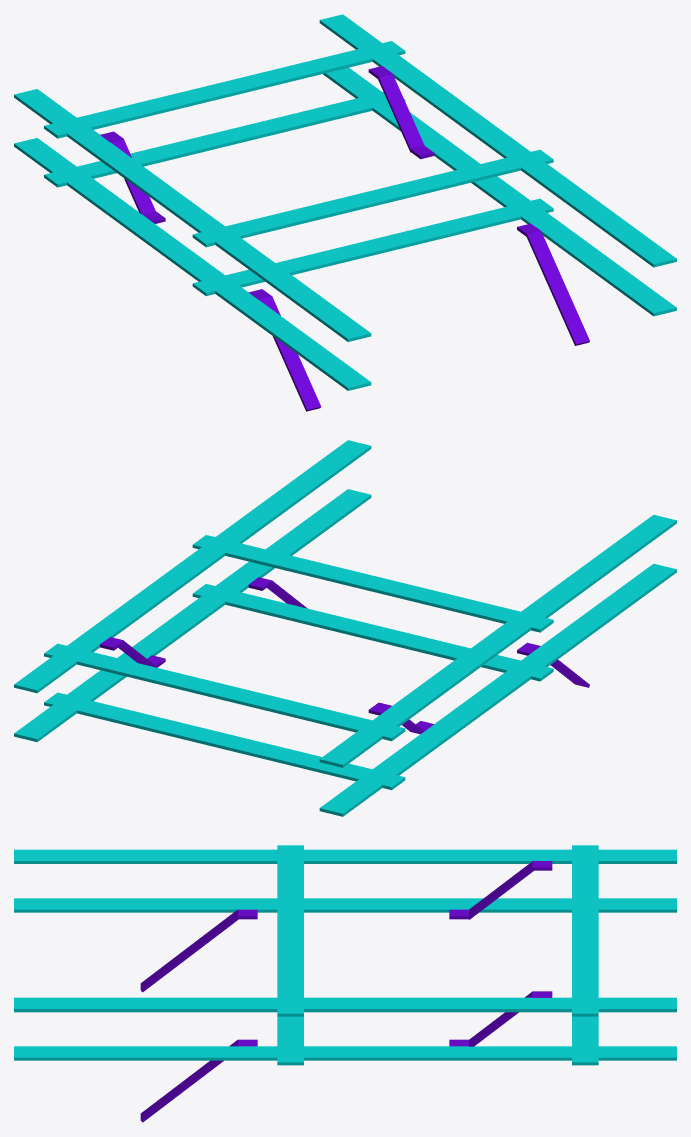
Rendered from Stairs.fbx.
The picture shows the model from 3 angles, top to bottom: view 1: azimuth 30°, elevation 25°; view 2: azimuth 150°, elevation 25°; view 3: azimuth 270°, elevation 25°; orthographic projection.
Parts seen in each view (by area): view 1: transform24; view 2: transform24; view 3: transform24.
Boxes of the visible parts, x1=… form: transform24: x1=14, y1=14, x2=676, y2=411; transform24: x1=14, y1=440, x2=676, y2=816; transform24: x1=14, y1=845, x2=676, y2=1122.
Size of the model in its own units: 38.67 by 13.36 by 64.35.
